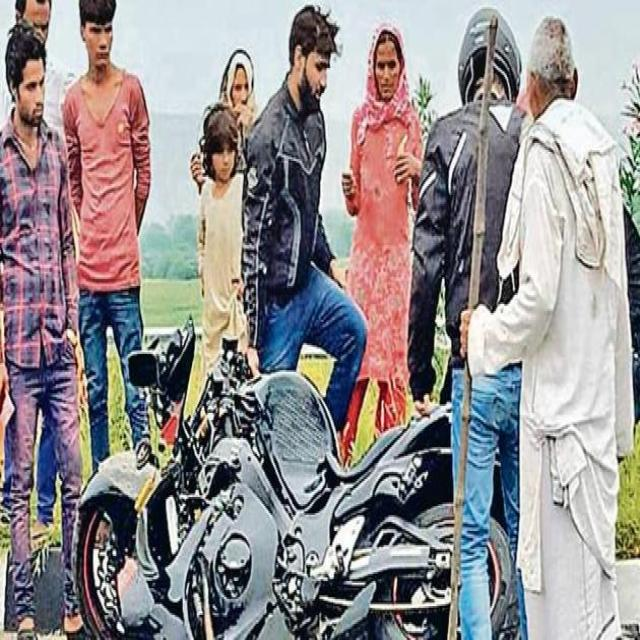accident: (76, 321, 450, 638)
